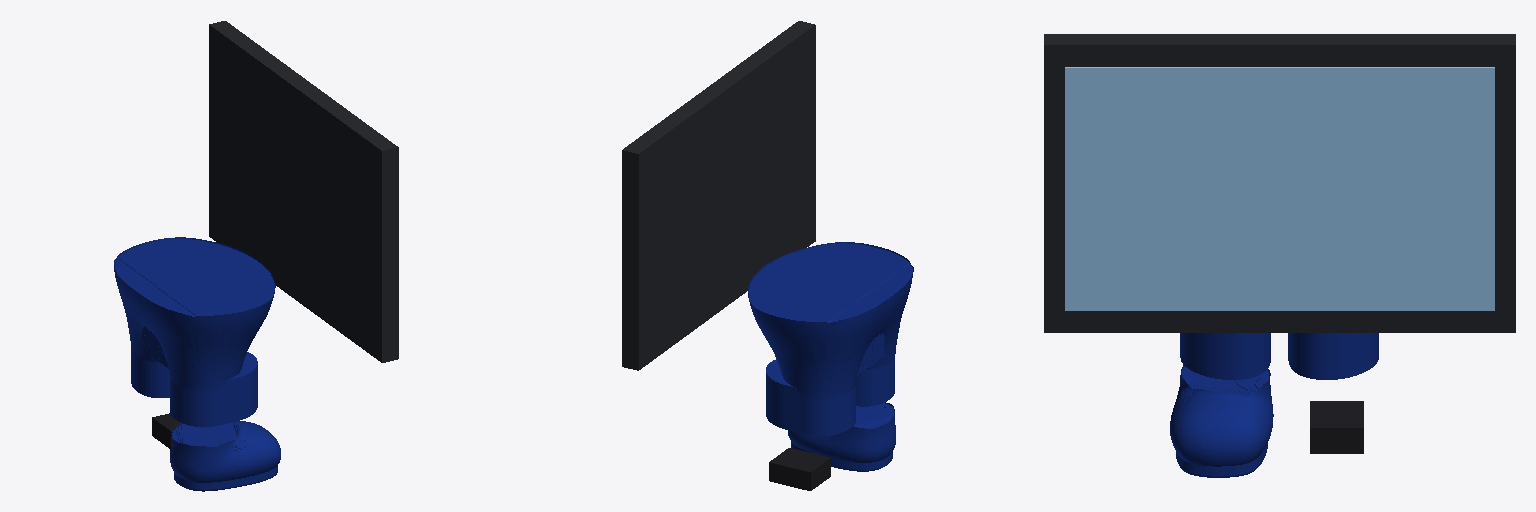
URDF robot description (haetburi):
<?xml version="1.0"?>
<!-- Haetburi biped (v15_sts3032_w4) - generated by tools/build_model.py, do not edit by hand -->
<robot name="haetburi">
  <mujoco>
    <compiler meshdir="." balanceinertia="true" discardvisual="false" strippath="false" fusestatic="false"/>
  </mujoco>
  <material name="display"><color rgba="0.18 0.19 0.21 1"/></material>
  <material name="screen"><color rgba="0.62 0.80 0.95 1"/></material>
  <material name="shell"><color rgba="0.106 0.216 0.541 1"/></material>
  <material name="motor"><color rgba="0.15 0.15 0.17 1"/></material>
  <material name="foot"><color rgba="0.25 0.25 0.28 1"/></material>
  <link name="world"/>
  <joint name="floating_base" type="floating">
    <parent link="world"/><child link="pelvis"/>
    <origin xyz="0 0 0" rpy="0 0 0"/>
  </joint>
  <link name="pelvis">
    <inertial>
      <origin xyz="-0.0065697 -6.50997e-05 0.0374947" rpy="0 0 0"/>
      <mass value="0.285611"/>
      <inertia ixx="0.000293054" ixy="1.47575e-07" ixz="9.68045e-05" iyy="0.000346605" iyz="-2.53506e-07" izz="0.0003052"/>
    </inertial>
    <visual><origin xyz="0 0 0" rpy="0 0 0"/><geometry><mesh filename="meshes/pelvis.stl"/></geometry><material name="shell"/></visual>
    <visual><origin xyz="0.00550246 0.0228704 0.02575" rpy="0 0 0"/><geometry><box size="0.023 0.012 0.0275"/></geometry><material name="motor"/></visual>
    <visual><origin xyz="0.00549754 -0.0231526 0.02575" rpy="0 0 0"/><geometry><box size="0.023 0.012 0.0275"/></geometry><material name="motor"/></visual>
    <collision><origin xyz="0.00697563 -0.000136661 0.0244" rpy="0 0 0"/><geometry><box size="0.0836344 0.111062 0.0488"/></geometry></collision>
  </link>
  <link name="torso">
    <inertial>
      <origin xyz="0.0242433 7.67415e-05 0.103843" rpy="0 0 0"/>
      <mass value="1.63093"/>
      <inertia ixx="0.0213251" ixy="-4.86063e-05" ixz="0.00369191" iyy="0.0210286" iyz="-5.19112e-05" izz="0.0121444"/>
    </inertial>
    <visual><origin xyz="0 0 0" rpy="0 0 0"/><geometry><mesh filename="meshes/torso.stl"/></geometry><material name="shell"/></visual>
    <visual><origin xyz="0.0784825 0 0.0374296" rpy="0 0 0"/><geometry><box size="0.01104 0.20208 0.136608"/></geometry><material name="display"/></visual>
    <visual><origin xyz="0.0840025 0 0.0374296" rpy="0 0 0"/><geometry><box size="0.0004 0.18432 0.1152"/></geometry><material name="screen"/></visual>
    <collision><origin xyz="-0.036439 -1.6963e-06 0.0268832" rpy="0 0 0"/><geometry><box size="0.17104 0.115978 0.114213"/></geometry></collision>
    <collision><origin xyz="0.044496 0.0898351 0.0541718" rpy="0 0 0"/><geometry><sphere radius="0.0649829"/></geometry></collision>
    <collision><origin xyz="0.0448036 -0.0899729 0.0541718" rpy="0 0 0"/><geometry><sphere radius="0.0649205"/></geometry></collision>
    <collision><origin xyz="-0.005585 0.000285622 0.109669" rpy="0 0 0"/><geometry><sphere radius="0.111459"/></geometry></collision>
    <collision><origin xyz="-0.00973205 -0.000131314 0.160993" rpy="0 0 0"/><geometry><sphere radius="0.12859"/></geometry></collision>
    <collision><origin xyz="-0.0148192 -0.00021673 0.212326" rpy="0 0 0"/><geometry><sphere radius="0.127101"/></geometry></collision>
    <collision><origin xyz="-0.0116256 0.000915539 0.263656" rpy="0 0 0"/><geometry><sphere radius="0.110519"/></geometry></collision>
    <collision><origin xyz="-0.00687921 0.00724674 0.315018" rpy="0 0 0"/><geometry><sphere radius="0.0787743"/></geometry></collision>
    <collision><origin xyz="-0.0126071 -0.00239521 0.366334" rpy="0 0 0"/><geometry><sphere radius="0.0457151"/></geometry></collision>
    <collision><origin xyz="0.0784825 0 0.0374296" rpy="0 0 0"/><geometry><box size="0.01104 0.20208 0.136608"/></geometry></collision>
  </link>
  <link name="leg_l">
    <inertial>
      <origin xyz="0.00415625 -0.00047842 -0.0167889" rpy="0 0 0"/>
      <mass value="0.0993306"/>
      <inertia ixx="2.50977e-05" ixy="2.66494e-07" ixz="-1.35908e-06" iyy="2.56504e-05" iyz="2.04833e-07" izz="2.71291e-05"/>
    </inertial>
    <visual><origin xyz="0 0 0" rpy="0 0 0"/><geometry><mesh filename="meshes/leg_l.stl"/></geometry><material name="shell"/></visual>
    <visual><origin xyz="0.00606951 -0.0012 -0.0125" rpy="0 0 0"/><geometry><box size="0.012 0.0275 0.023"/></geometry><material name="motor"/></visual>
    <collision><origin xyz="0.00552779 -7.29434e-06 -0.014" rpy="0 0 0"/><geometry><box size="0.0546834 0.0399695 0.028"/></geometry></collision>
  </link>
  <link name="ankle_l">
    <inertial>
      <origin xyz="0.00239784 -0.00136438 -0.0213" rpy="0 0 0"/>
      <mass value="0.0218531"/>
      <inertia ixx="6.2186e-06" ixy="0" ixz="0" iyy="4.03329e-06" iyz="0" izz="3.64219e-06"/>
    </inertial>
  </link>
  <link name="foot_l">
    <inertial>
      <origin xyz="0.000512288 0.00462479 -0.000920763" rpy="0 0 0"/>
      <mass value="0.0867579"/>
      <inertia ixx="1.73764e-05" ixy="-8.62792e-07" ixz="-2.11128e-07" iyy="2.63174e-05" iyz="-7.80465e-07" izz="3.05848e-05"/>
    </inertial>
    <visual><origin xyz="0 0 0" rpy="0 0 0"/><geometry><mesh filename="meshes/foot_l.stl"/></geometry><material name="shell"/></visual>
    <visual><origin xyz="0 0.0055 4.44089e-19" rpy="0 0 0"/><geometry><box size="0.0275 0.023 0.012"/></geometry><material name="motor"/></visual>
    <collision><origin xyz="0 0 0" rpy="0 0 0"/><geometry><mesh filename="meshes/foot_l.stl"/></geometry></collision>
  </link>
  <link name="leg_r">
    <inertial>
      <origin xyz="0.00419578 0.000487464 -0.0167889" rpy="0 0 0"/>
      <mass value="0.0993226"/>
      <inertia ixx="2.51259e-05" ixy="-3.07845e-07" ixz="-1.37555e-06" iyy="2.56278e-05" iyz="-2.08266e-07" izz="2.7135e-05"/>
    </inertial>
    <visual><origin xyz="0 0 0" rpy="0 0 0"/><geometry><mesh filename="meshes/leg_r.stl"/></geometry><material name="shell"/></visual>
    <visual><origin xyz="0.00625821 0.0012 -0.0125" rpy="0 0 0"/><geometry><box size="0.012 0.0275 0.023"/></geometry><material name="motor"/></visual>
    <collision><origin xyz="0.00553187 1.15638e-05 -0.014" rpy="0 0 0"/><geometry><box size="0.0546527 0.0400463 0.028"/></geometry></collision>
  </link>
  <link name="ankle_r">
    <inertial>
      <origin xyz="0.00235946 0.00125788 -0.0213" rpy="0 0 0"/>
      <mass value="0.0218531"/>
      <inertia ixx="6.2186e-06" ixy="0" ixz="0" iyy="4.03329e-06" iyz="0" izz="3.64219e-06"/>
    </inertial>
  </link>
  <link name="foot_r">
    <inertial>
      <origin xyz="0.00040167 -0.00452023 -0.000959733" rpy="0 0 0"/>
      <mass value="0.0865718"/>
      <inertia ixx="1.7241e-05" ixy="8.98297e-07" ixz="-1.46734e-07" iyy="2.61841e-05" iyz="7.6138e-07" izz="3.04562e-05"/>
    </inertial>
    <visual><origin xyz="0 0 0" rpy="0 0 0"/><geometry><mesh filename="meshes/foot_r.stl"/></geometry><material name="shell"/></visual>
    <visual><origin xyz="0 -0.0055 4.44089e-19" rpy="0 0 0"/><geometry><box size="0.0275 0.023 0.012"/></geometry><material name="motor"/></visual>
    <collision><origin xyz="0 0 0" rpy="0 0 0"/><geometry><mesh filename="meshes/foot_r.stl"/></geometry></collision>
  </link>
  <joint name="waist_fixed" type="fixed">
    <parent link="pelvis"/><child link="torso"/>
    <origin xyz="0 0 0.0488" rpy="0 0 0"/>
  </joint>
  <joint name="hip_yaw_l" type="revolute">
    <parent link="pelvis"/><child link="leg_l"/>
    <origin xyz="2.46335e-06 0.0228704 0" rpy="0 0 0"/>
    <axis xyz="0 0 1"/>
    <limit lower="-0.523599" upper="0.523599" effort="0.44" velocity="11.6"/>
    <dynamics damping="0.03142857142857144" friction="0.012571428571428574"/>
  </joint>
  <joint name="hip_yaw_r" type="revolute">
    <parent link="pelvis"/><child link="leg_r"/>
    <origin xyz="-2.46335e-06 -0.0231526 0" rpy="0 0 0"/>
    <axis xyz="0 0 1"/>
    <limit lower="-0.523599" upper="0.523599" effort="0.44" velocity="11.6"/>
    <dynamics damping="0.03142857142857144" friction="0.012571428571428574"/>
  </joint>
  <joint name="ankle_pitch_l" type="revolute">
    <parent link="leg_l"/><child link="ankle_l"/>
    <origin xyz="0.00606951 -0.0012 -0.018" rpy="0 0 0"/>
    <axis xyz="0 1 0"/>
    <limit lower="-0.261799" upper="0.261799" effort="0.44" velocity="11.6"/>
    <dynamics damping="0.03142857142857144" friction="0.012571428571428574"/>
  </joint>
  <joint name="ankle_pitch_r" type="revolute">
    <parent link="leg_r"/><child link="ankle_r"/>
    <origin xyz="0.00625821 0.0012 -0.018" rpy="0 0 0"/>
    <axis xyz="0 1 0"/>
    <limit lower="-0.261799" upper="0.261799" effort="0.44" velocity="11.6"/>
    <dynamics damping="0.03142857142857144" friction="0.012571428571428574"/>
  </joint>
  <joint name="ankle_roll_l" type="revolute">
    <parent link="ankle_l"/><child link="foot_l"/>
    <origin xyz="0.00479569 -0.00272877 -0.0426" rpy="0 0 0"/>
    <axis xyz="1 0 0"/>
    <limit lower="-0.261799" upper="0.261799" effort="0.44" velocity="11.6"/>
    <dynamics damping="0.03142857142857144" friction="0.012571428571428574"/>
  </joint>
  <joint name="ankle_roll_r" type="revolute">
    <parent link="ankle_r"/><child link="foot_r"/>
    <origin xyz="0.00471892 0.00251576 -0.0426" rpy="0 0 0"/>
    <axis xyz="1 0 0"/>
    <limit lower="-0.261799" upper="0.261799" effort="0.44" velocity="11.6"/>
    <dynamics damping="0.03142857142857144" friction="0.012571428571428574"/>
  </joint>
</robot>

--- Render facts (derived) ---
Views: 3 orthographic renders of the robot side by side, from view 1: azimuth 30°, elevation 25°; view 2: azimuth 150°, elevation 25°; view 3: azimuth 270°, elevation 25°.
Robot: haetburi — 9 links, 8 joints (6 revolute, 1 fixed, 1 floating); root link world; default pose: every joint at zero.
Links seen in each view (by area): view 1: torso, pelvis, foot_r, leg_r, leg_l, foot_l; view 2: torso, pelvis, leg_l, foot_r, foot_l, leg_r; view 3: torso, foot_r, leg_l, leg_r, foot_l.
Boxes of the visible links, x1,y1,x2,y2 form: torso: (209,21,398,362); pelvis: (114,237,275,383); foot_r: (170,421,280,491); leg_r: (169,352,257,426); leg_l: (131,343,169,397); foot_l: (152,413,180,449); torso: (622,21,815,370); pelvis: (748,242,913,391); leg_l: (766,359,856,435); foot_r: (788,402,895,471); foot_l: (769,448,830,490); leg_r: (856,350,895,406); torso: (1044,34,1515,332); foot_r: (1170,365,1273,477); leg_l: (1288,333,1378,379); leg_r: (1180,333,1270,379); foot_l: (1310,401,1363,453).
Size in the robot's own frame: 0.119 by 0.2021 by 0.2251 metres.
Meshes: 6 distinct files referenced, 4 mesh visuals loaded (4 binary STL); not drawn: 2 (reference not matched to a file when rendering).
